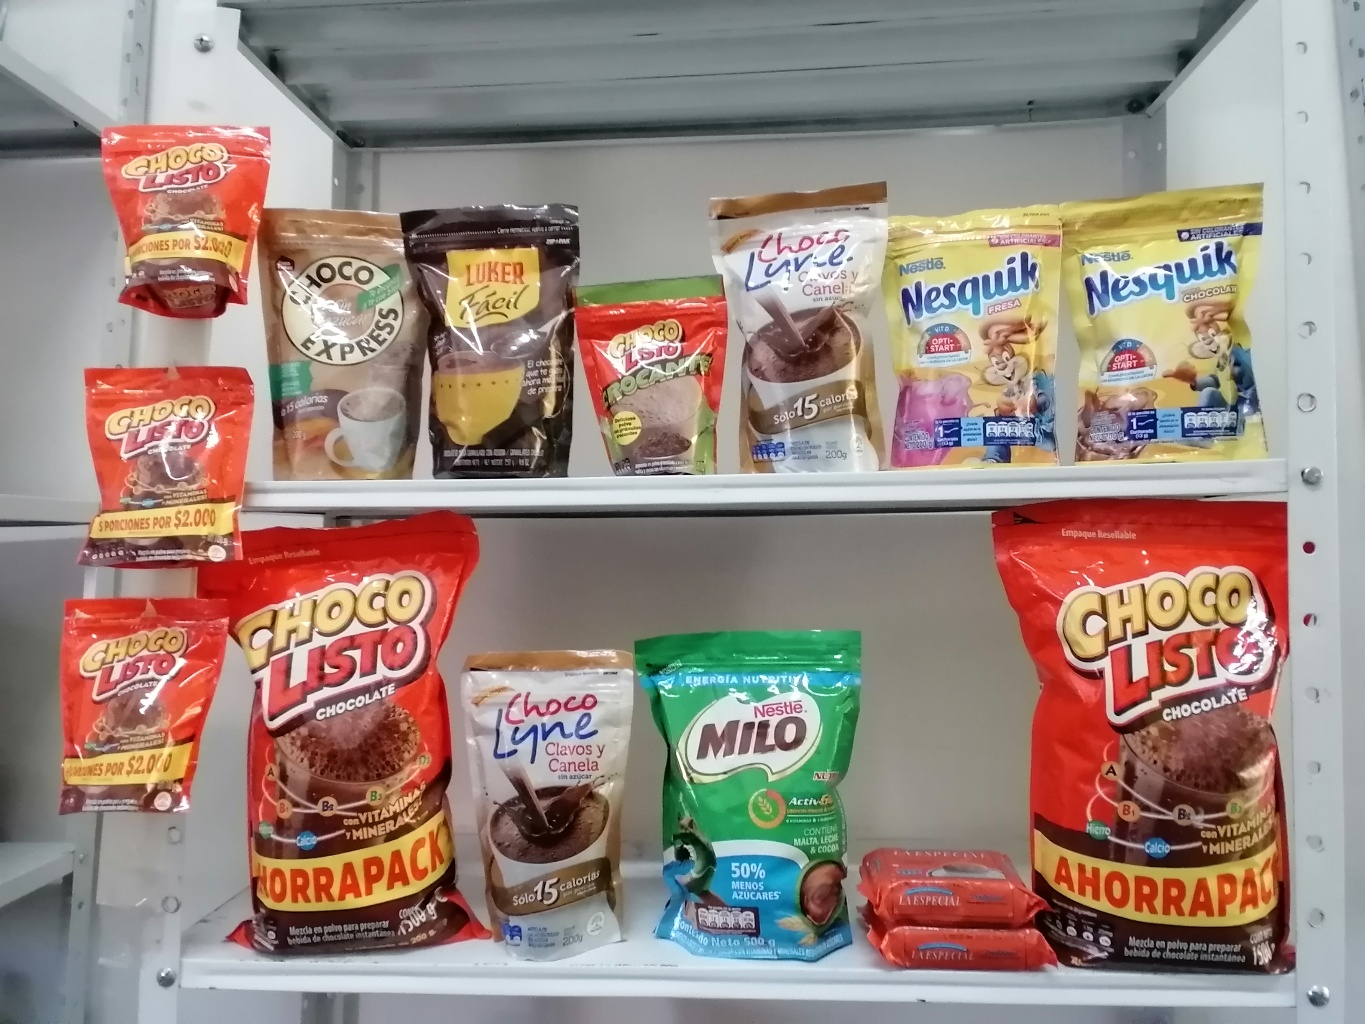COL0170102DYP10000: (568, 282, 733, 478)
COL0170103DYP1,500: (993, 497, 1292, 977)
COL0170103DYP10000: (101, 124, 272, 321)
COL0170205DYP50000: (632, 628, 866, 963)
COL0170303DYP20000: (1058, 177, 1274, 463)
COL0170305DYP20000: (885, 207, 1066, 472)
